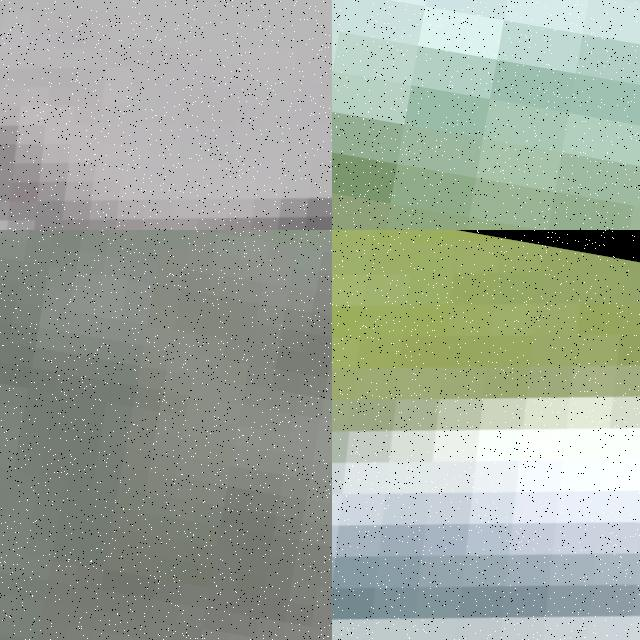drone: (332, 230, 640, 640), (0, 0, 332, 230)
